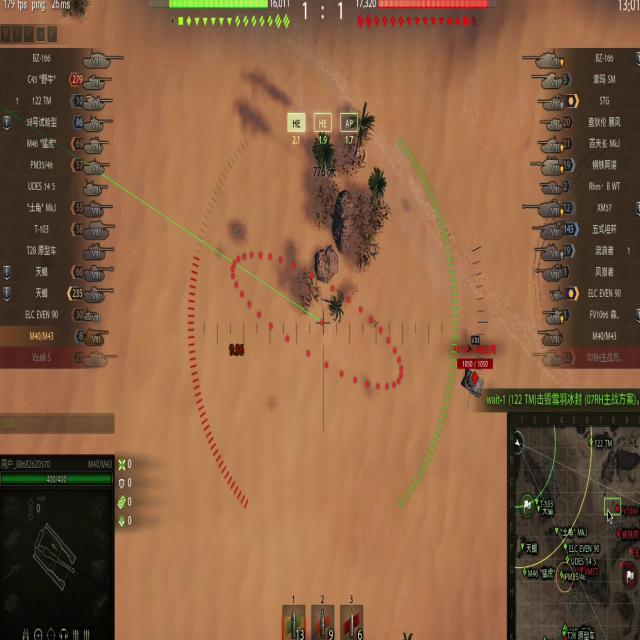tank: (460, 362, 490, 400)
